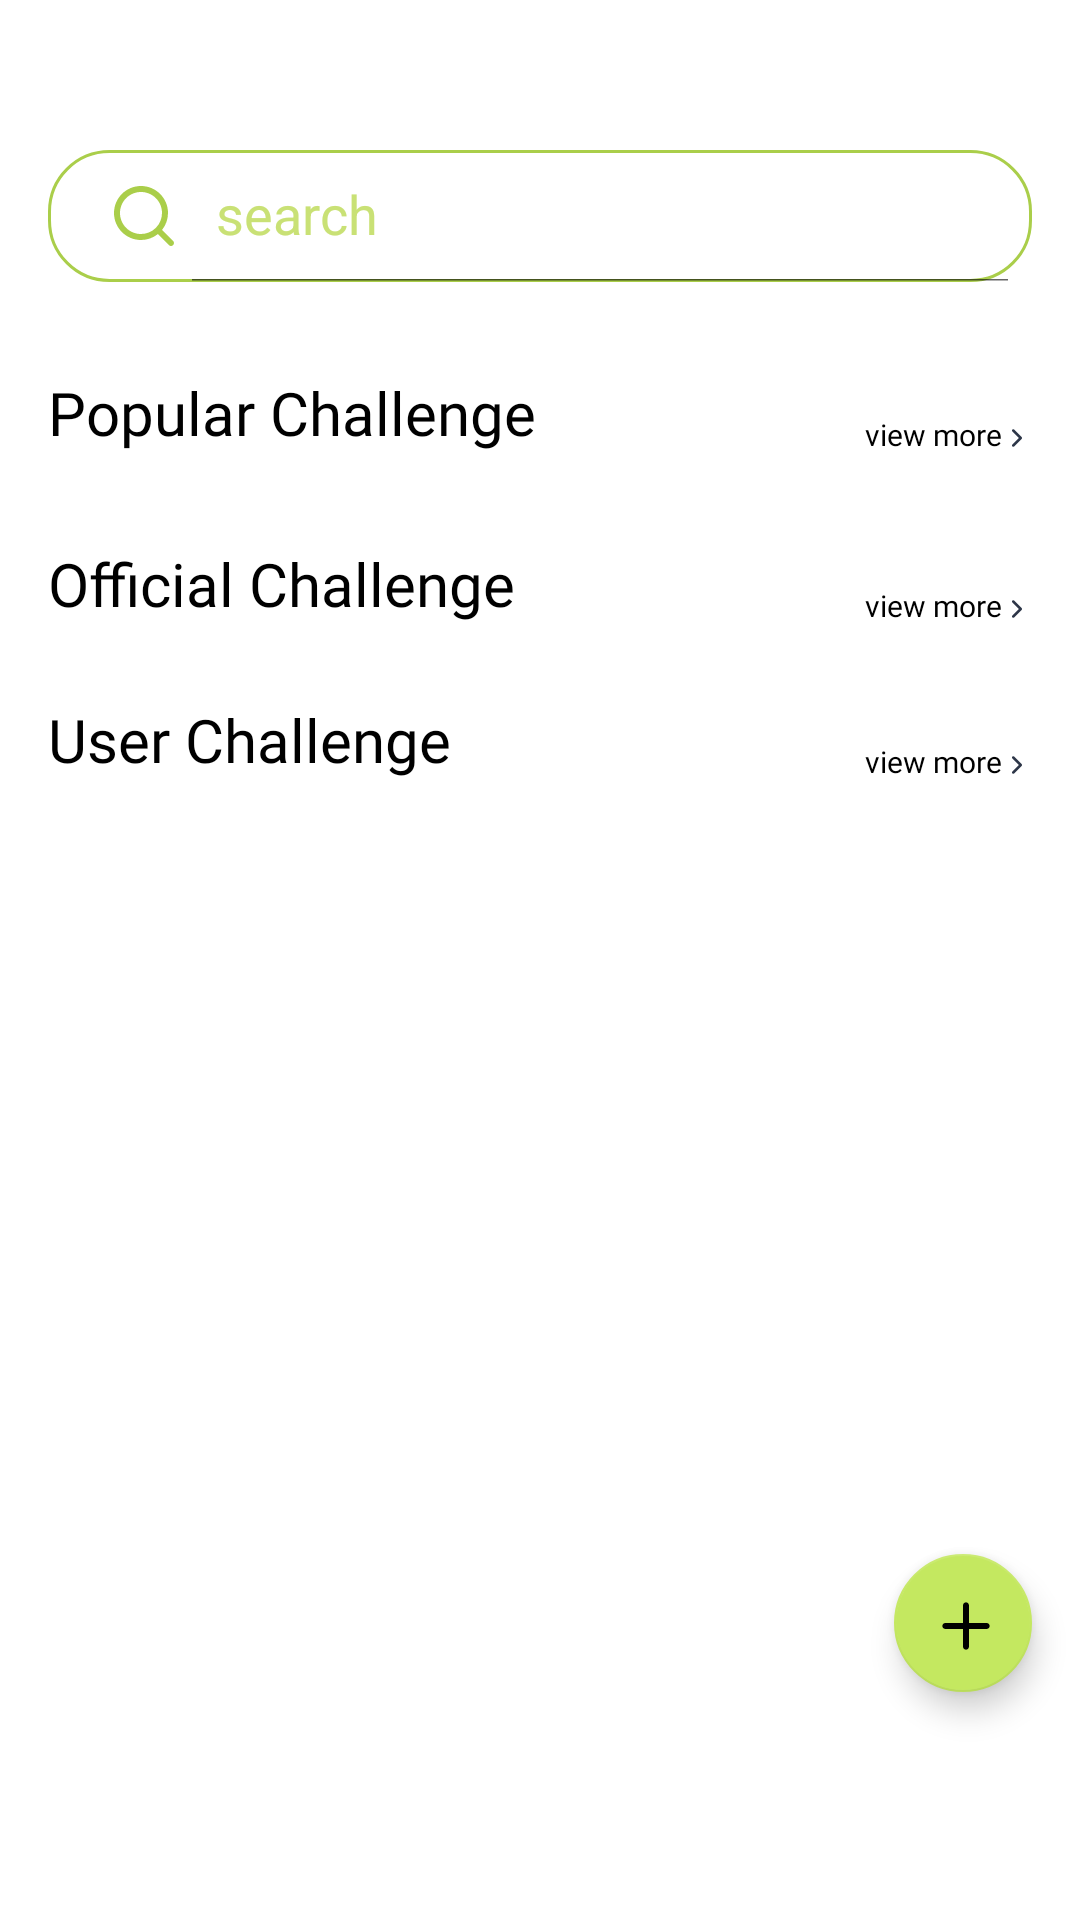

Named icons in this screenshot (1080 x 1920) and their bounding boxes, (x1, y1, x2, y2):
add: (894, 1554, 1032, 1692)
